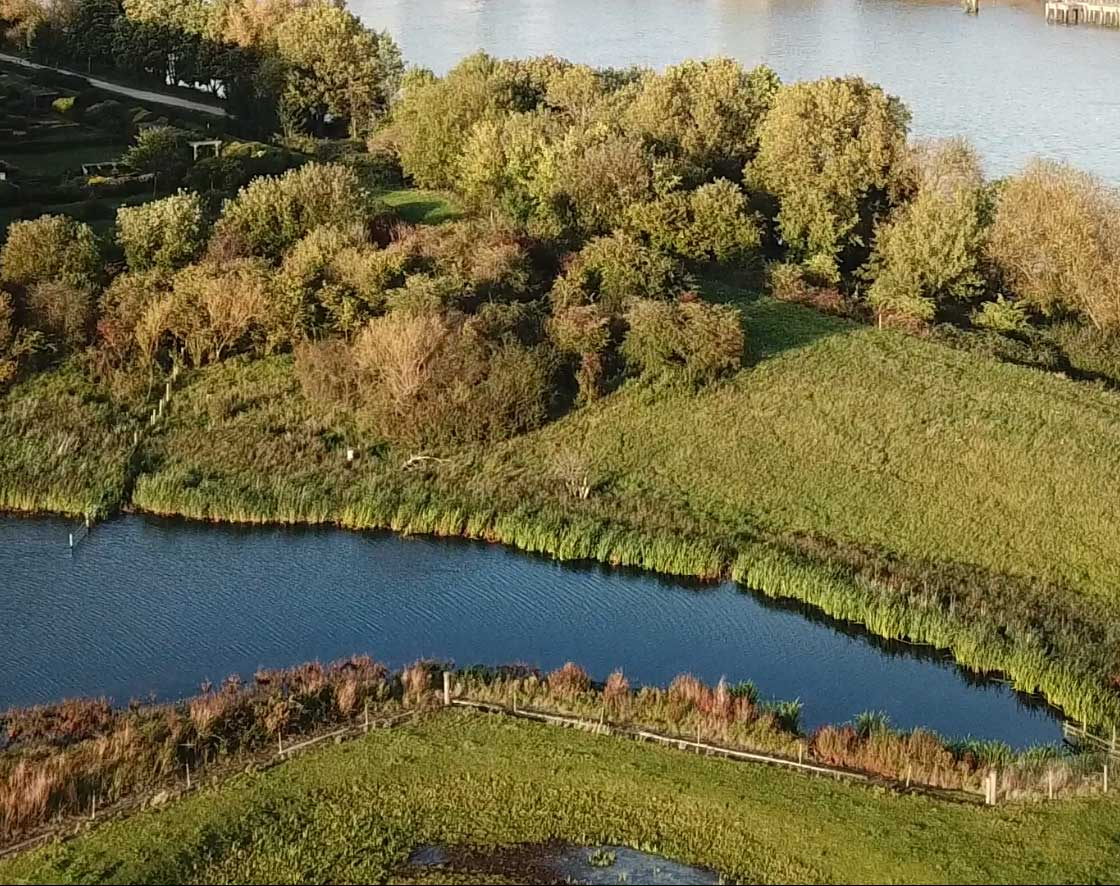trees: (392, 69, 926, 362)
water: (599, 546, 1094, 805), (5, 491, 594, 692)
